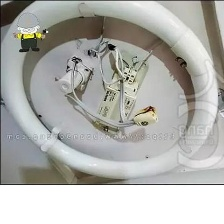light_bulb: (0, 0, 222, 182)
